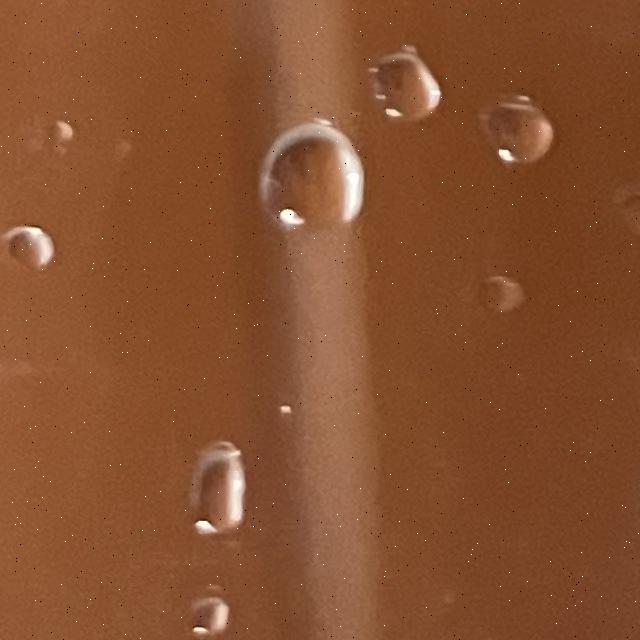raindrop: (256, 112, 366, 236), (178, 432, 266, 536), (468, 84, 557, 184), (381, 33, 437, 115), (472, 254, 536, 318), (177, 584, 243, 640), (27, 111, 81, 164), (5, 222, 53, 279)
